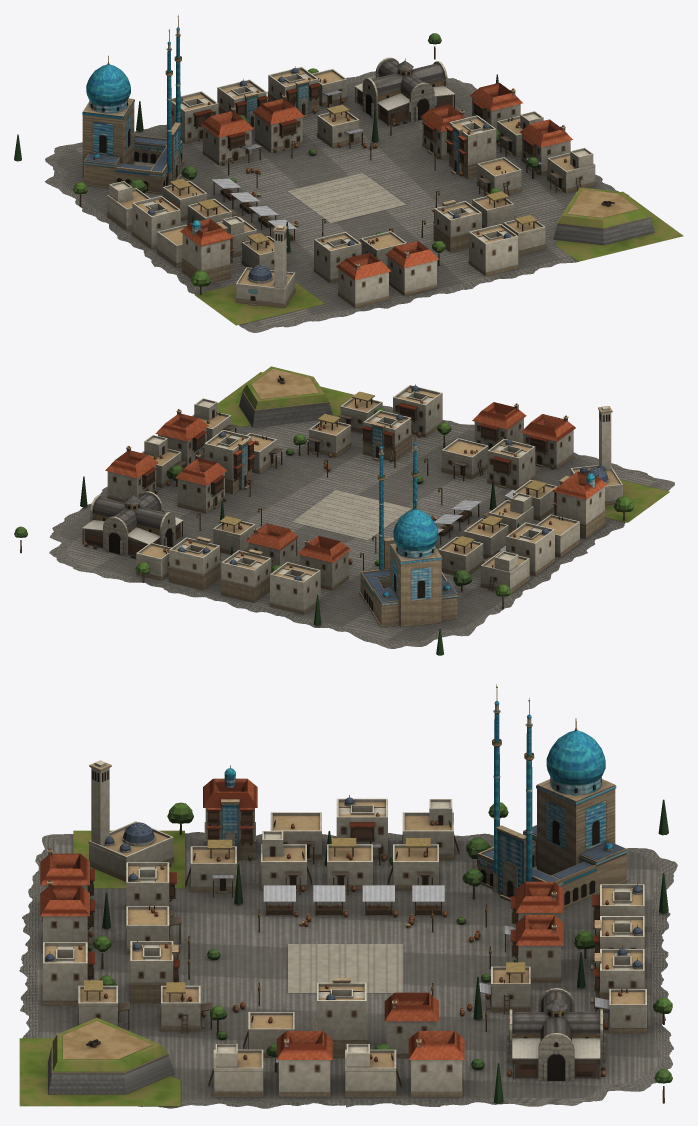
File: gunpowder-town-big-b-levant.glb
3 views of the same model, one above another, from view 1: azimuth 30°, elevation 25°; view 2: azimuth 150°, elevation 25°; view 3: azimuth 270°, elevation 25° (orthographic). The views are drawn at different scales.
Visible parts, largest first — view 1: LOD0; view 2: LOD0; view 3: LOD0.
Part boxes in pixels (box(x1,y1,x2,y2)): LOD0: box(14, 15, 683, 332); LOD0: box(14, 366, 674, 655); LOD0: box(19, 684, 677, 1108).
Size of what is drawn, in the model's own units: 8.05 by 2.8 by 8.12.
3 materials, 3 textured.
